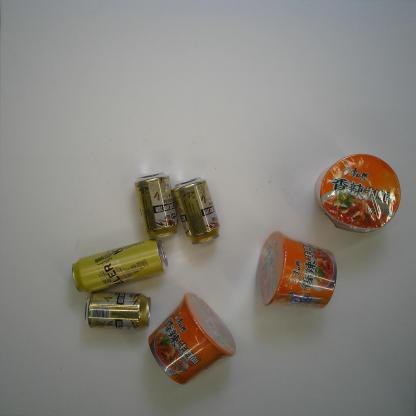Alcohol: (71, 237, 169, 294), (172, 176, 220, 245), (134, 172, 179, 240), (84, 290, 151, 331)
Instant Noodles: (148, 292, 236, 386), (319, 153, 401, 235), (256, 230, 338, 310)
